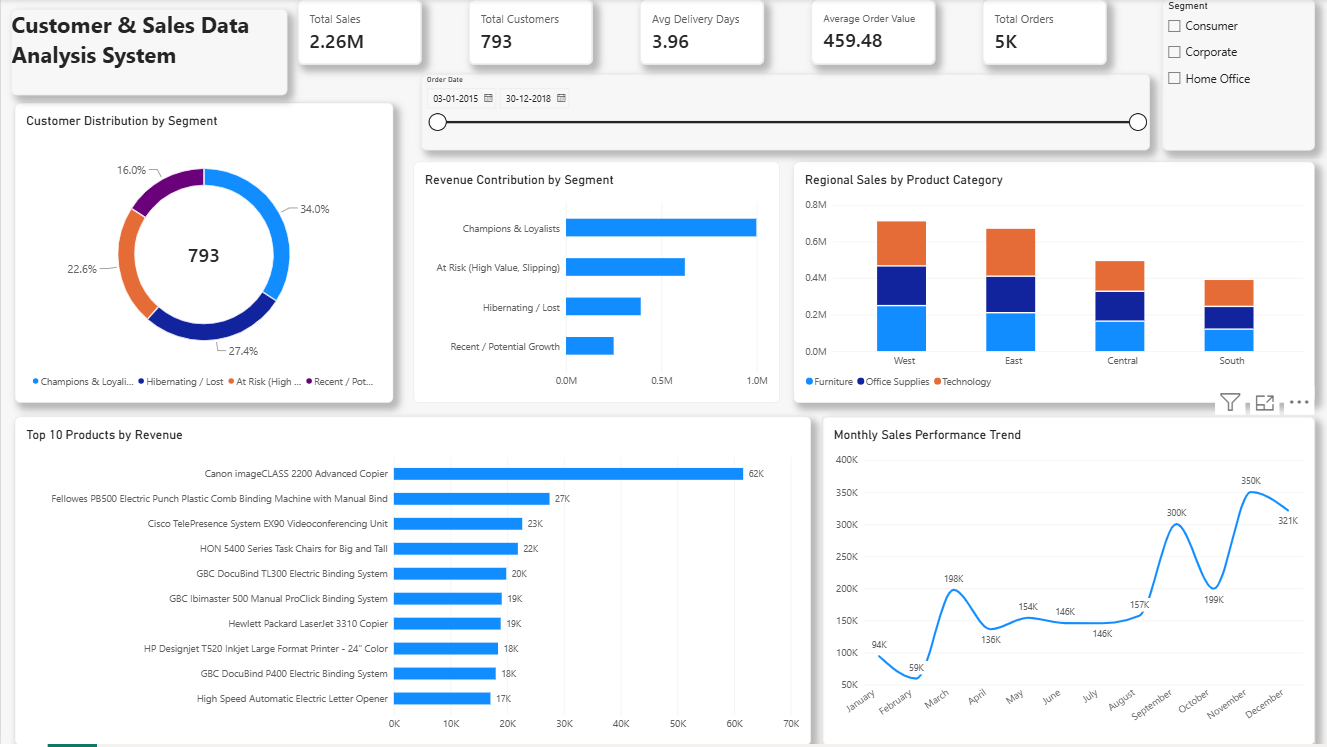

This screenshot's page, from the dashboard's own definition file:
{"tool":"powerbi","page":{"name":"Page 1","canvas":[1920,1080],"ordinal":0},"visuals":[{"type":"cardVisual","fields":{"Data":["cleaned_sales_rfm.Total Sales"]},"box":[428.1,0,180,95],"z":0},{"type":"cardVisual","fields":{"Data":["cleaned_sales_rfm.Total Customers"]},"box":[676.2,0,180,95],"z":1000},{"type":"cardVisual","fields":{"Data":["cleaned_sales_rfm.Avg Delivery Days"]},"box":[924.4,0,180,95],"z":2000},{"type":"donutChart","title":"Customer Distribution by Segment","fields":{"Category":["cleaned_sales_rfm.Customer_Segment"],"Y":["cleaned_sales_rfm.Total Customers"]},"box":[19.9,150.2,548.3,434.3],"z":3000},{"type":"columnChart","title":"Regional Sales by Product Category","fields":{"Category":["cleaned_sales_rfm.Region"],"Series":["cleaned_sales_rfm.Category"],"Y":["cleaned_sales_rfm.Total Sales"]},"box":[1147.3,235.3,754.6,349.3],"z":5000},{"type":"slicer","fields":{"Values":["cleaned_sales_rfm.Order Date"]},"box":[608,108.6,1055,110.4],"z":6000},{"type":"slicer","fields":{"Values":["cleaned_sales_rfm.Segment"]},"box":[1681.2,0,220.8,219],"z":7000},{"type":"textbox","box":[14.5,14.5,399.9,124.9],"z":8000},{"type":"lineChart","title":"Monthly Sales Performance  Trend","fields":{"Category":["cleaned_sales_rfm.Order Date.Variation.Date Hierarchy.Month"],"Y":["cleaned_sales_rfm.Total Sales"]},"box":[1188.9,604.4,713,475.9],"z":9000},{"type":"cardVisual","fields":{"Data":["cleaned_sales_rfm.Average Order Value"]},"box":[1172.5,0,180,95],"z":10000},{"type":"cardVisual","fields":{"Data":["cleaned_sales_rfm.Total Orders"]},"box":[1420.6,0,180,95],"z":11000},{"type":"clusteredBarChart","title":"Top 10 Products by Revenue","fields":{"Category":["cleaned_sales_rfm.Product Name"],"Y":["cleaned_sales_rfm.Total Sales"]},"box":[19.9,604.4,1152.8,475.9],"z":12000},{"type":"clusteredBarChart","title":"Revenue Contribution by Segment","fields":{"Category":["cleaned_sales_rfm.Customer_Segment"],"Y":["cleaned_sales_rfm.Total Sales"]},"box":[597.2,235.3,530.2,349.3],"z":12001}]}

Visuals, with their boxes in screenshot pixels (x1, y1, x2, y2), scaled from the page's 1920x1080 canvas onto the 1327x747 screenshot:
cardVisual - cleaned_sales_rfm.Total Sales: 296:0:420:66
cardVisual - cleaned_sales_rfm.Total Customers: 467:0:592:66
cardVisual - cleaned_sales_rfm.Avg Delivery Days: 639:0:763:66
"Customer Distribution by Segment" donutChart: 14:104:393:404
"Regional Sales by Product Category" columnChart: 793:163:1314:404
slicer - cleaned_sales_rfm.Order Date: 420:75:1149:151
slicer - cleaned_sales_rfm.Segment: 1162:0:1315:151
textbox: 10:10:286:96
"Monthly Sales Performance  Trend" lineChart: 822:418:1314:746
cardVisual - cleaned_sales_rfm.Average Order Value: 810:0:935:66
cardVisual - cleaned_sales_rfm.Total Orders: 982:0:1106:66
"Top 10 Products by Revenue" clusteredBarChart: 14:418:811:746
"Revenue Contribution by Segment" clusteredBarChart: 413:163:779:404
